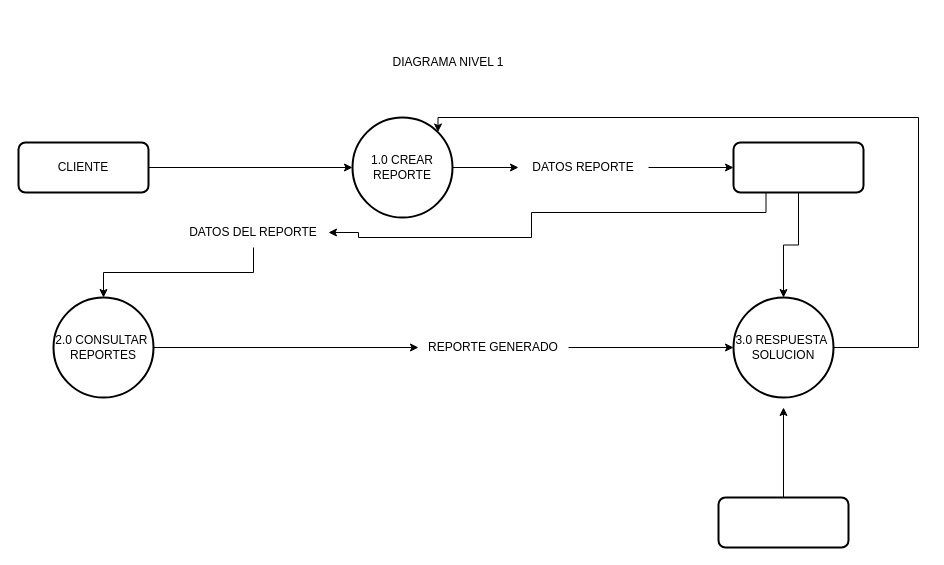
The diagram is 944 pixels wide and 565 high, and some of its shapes have lost their labels. The centre of each missing label's shape, as x and y in pixels:
ALMACEN: point 783,522
DOCTOR: point 798,167
